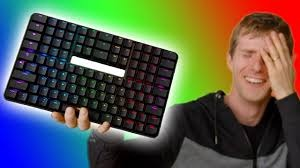keyboard: (6, 10, 181, 142)
